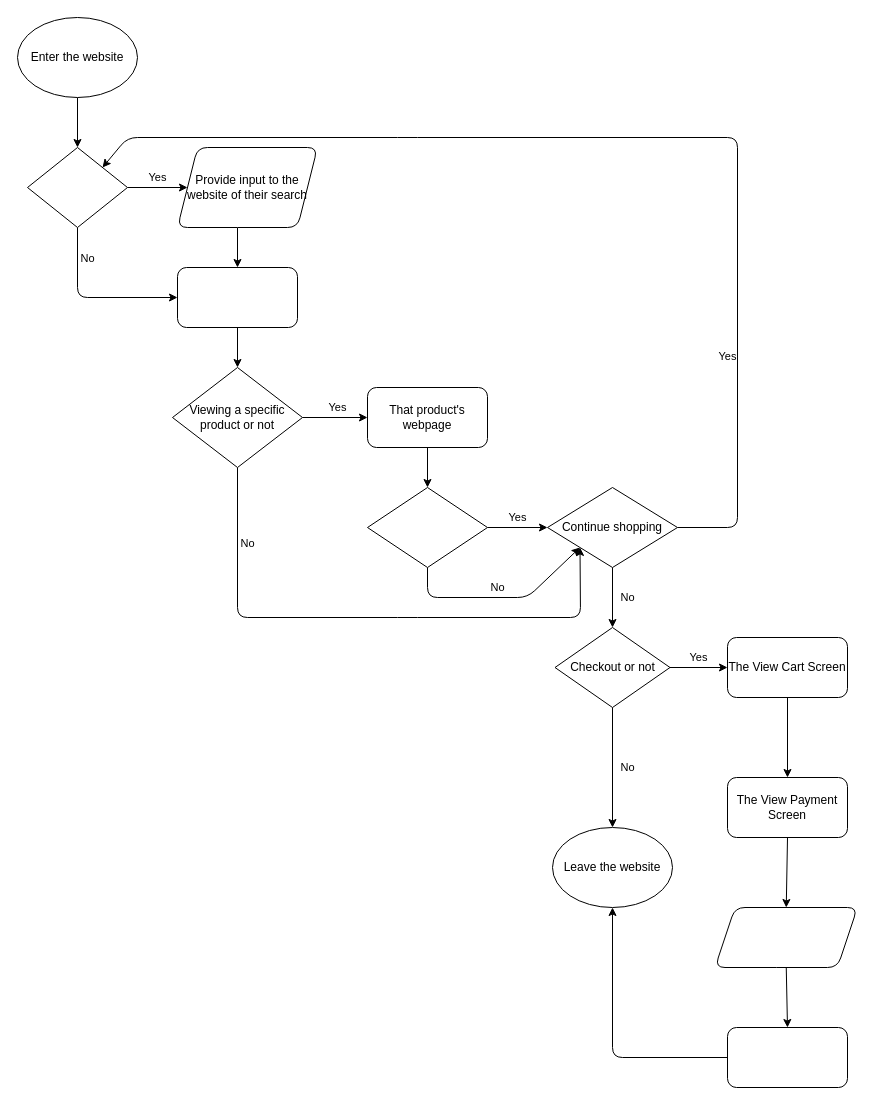
Some shapes in this 875 by 1105 pixel diagram are drawn without their labels. The box of each missing label's shape, as (x1, y1, x2, y2) in pixels:
Add to cart or not: (366, 486, 488, 568)
An order confirmation screen and receive an email: (726, 1026, 848, 1088)
Input the payment information: (714, 906, 858, 968)
Looking over the product: (176, 266, 298, 328)
Search or not: (26, 146, 128, 228)
